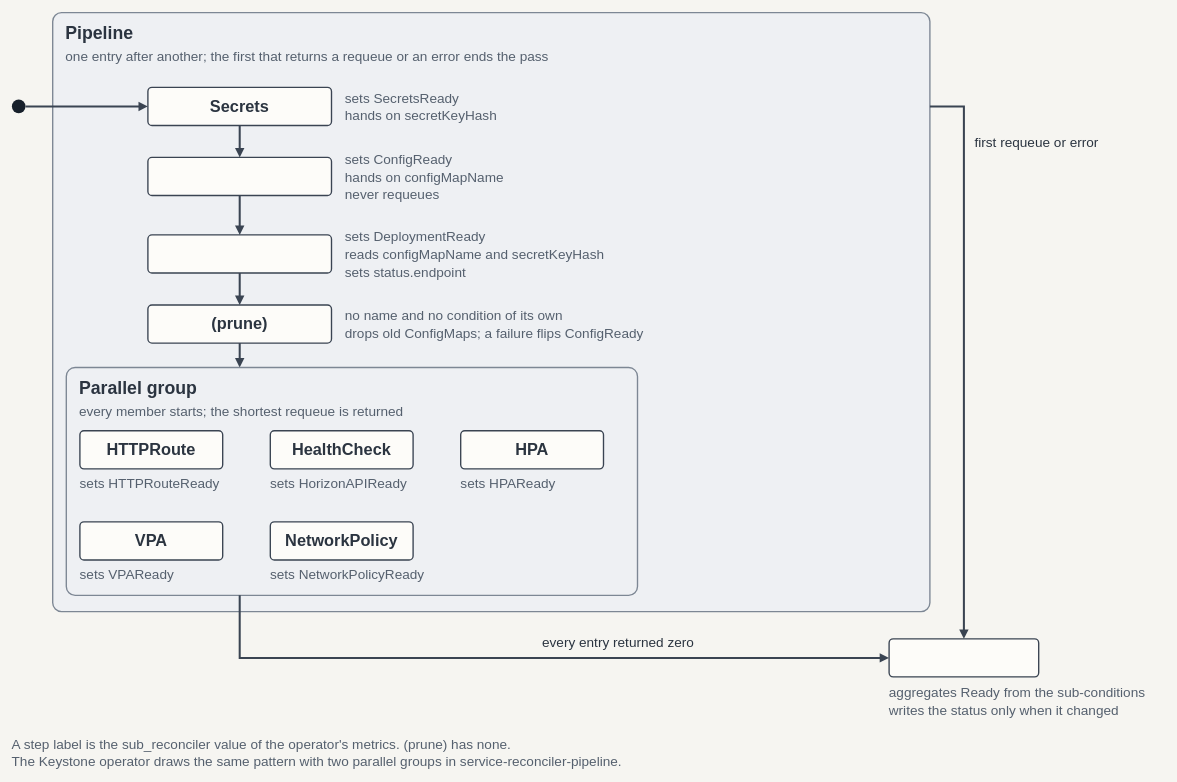
Some shapes in this 1177 by 782 pixel diagram are drawn without their labels. The shapes that lost their labels are listed below. From the top down, each one's centre as x and y in pixels, then its label:
the point at 239,176: Config
the point at 239,253: Deployment
the point at 963,657: updateStatus
